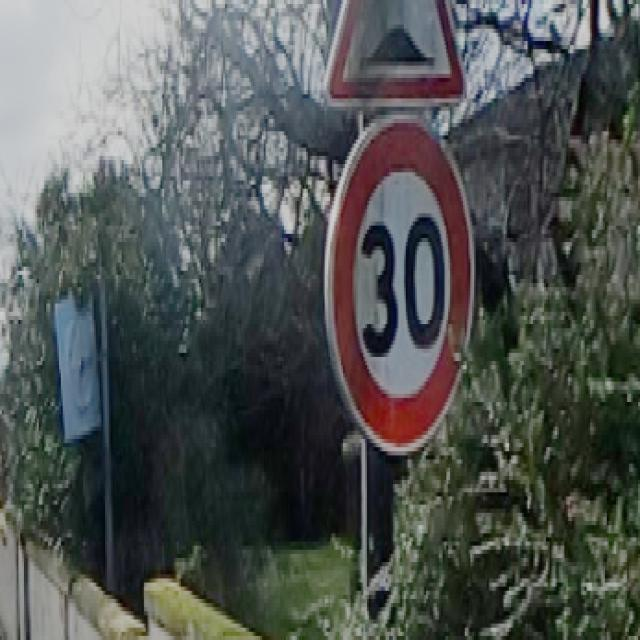speed_30: (323, 116, 477, 452)
